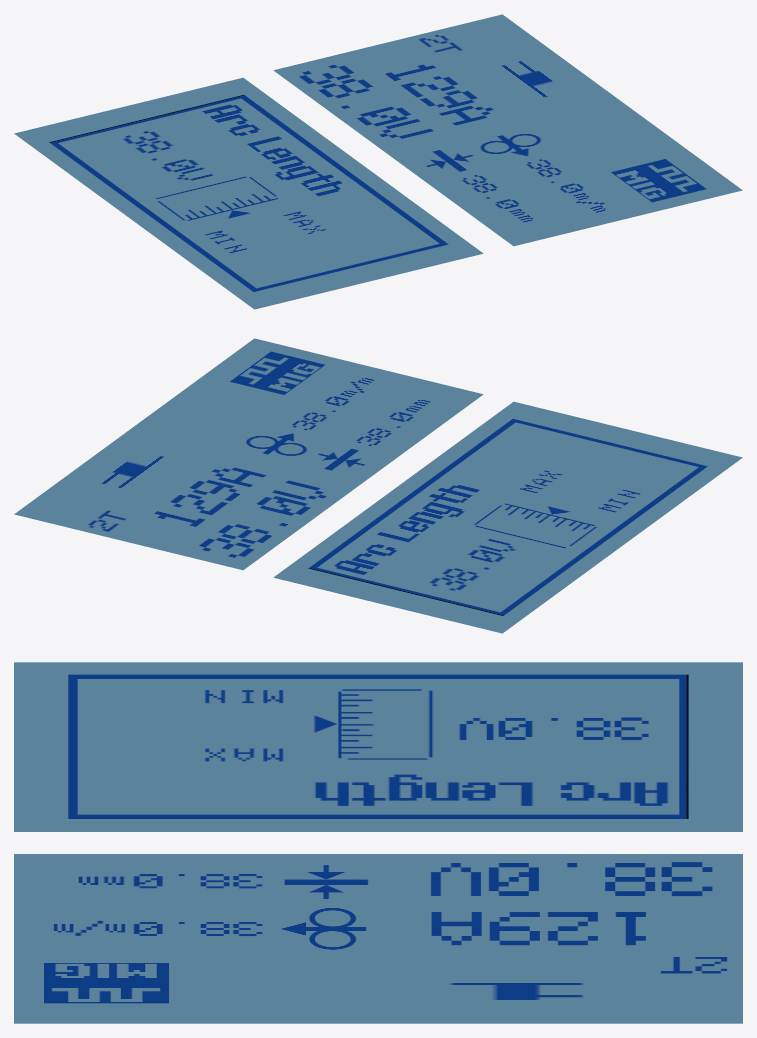
The model's file is sss1.glb.
3 renders of one model, top to bottom at view 1: azimuth 30°, elevation 25°; view 2: azimuth 150°, elevation 25°; view 3: azimuth 270°, elevation 25°, orthographic. The views are drawn at different scales.
Parts seen in each view (by area): view 1: tolshina_ekran., glav_ekran, arclength_tolshuna_ekran, rejum_gkav_ekran, tolshina_ekran_obvodka, simvol_lineika__tolshina_ekran, tiprezki_sim_mm_gkav_ekran, simvol_skorost__gkav_ekran, simvol_tolshina__gkav_ekran, min_tolshuna_ekran, max_tolshuna_ekran, skorost_sim_mm_gkav_ekran (+16 smaller); view 2: tolshina_ekran., glav_ekran, arclength_tolshuna_ekran, rejum_gkav_ekran, tolshina_ekran_obvodka, simvol_lineika__tolshina_ekran, tiprezki_sim_mm_gkav_ekran, simvol_skorost__gkav_ekran, simvol_tolshina__gkav_ekran, max_tolshuna_ekran, min_tolshuna_ekran, skorost_sim_mm_gkav_ekran (+16 smaller); view 3: tolshina_ekran., glav_ekran, arclength_tolshuna_ekran, rejum_gkav_ekran, tolshina_ekran_obvodka, simvol_lineika__tolshina_ekran, tiprezki_sim_mm_gkav_ekran, simvol_tolshina__gkav_ekran, simvol_skorost__gkav_ekran, max_tolshuna_ekran, min_tolshuna_ekran, skorost_sim_mm_gkav_ekran (+25 smaller).
Part boxes in pixels (bbox=[...]): tolshina_ekran.: bbox=[14, 77, 483, 309]; glav_ekran: bbox=[273, 14, 742, 246]; arclength_tolshuna_ekran: bbox=[188, 100, 359, 201]; rejum_gkav_ekran: bbox=[449, 23, 620, 133]; tolshina_ekran_obvodka: bbox=[49, 95, 448, 291]; simvol_lineika__tolshina_ekran: bbox=[149, 174, 283, 222]; tiprezki_sim_mm_gkav_ekran: bbox=[611, 159, 706, 202]; simvol_skorost__gkav_ekran: bbox=[467, 126, 557, 164]; simvol_tolshina__gkav_ekran: bbox=[404, 142, 494, 179]; min_tolshuna_ekran: bbox=[202, 222, 278, 254]; max_tolshuna_ekran: bbox=[281, 203, 357, 235]; skorost_sim_mm_gkav_ekran: bbox=[564, 184, 639, 215]; tolshina_ekran.: bbox=[273, 401, 742, 633]; glav_ekran: bbox=[14, 338, 483, 570]; arclength_tolshuna_ekran: bbox=[324, 478, 495, 579]; rejum_gkav_ekran: bbox=[45, 414, 216, 524]; tolshina_ekran_obvodka: bbox=[308, 419, 707, 615]; simvol_lineika__tolshina_ekran: bbox=[468, 502, 602, 550]; tiprezki_sim_mm_gkav_ekran: bbox=[230, 351, 325, 394]; simvol_skorost__gkav_ekran: bbox=[233, 425, 323, 462]; simvol_tolshina__gkav_ekran: bbox=[296, 441, 386, 478]; max_tolshuna_ekran: bbox=[488, 462, 564, 494]; min_tolshuna_ekran: bbox=[567, 481, 643, 513]; skorost_sim_mm_gkav_ekran: bbox=[308, 368, 383, 400]; tolshina_ekran.: bbox=[14, 662, 742, 831]; glav_ekran: bbox=[14, 854, 742, 1023]; arclength_tolshuna_ekran: bbox=[305, 773, 674, 810]; rejum_gkav_ekran: bbox=[303, 979, 729, 1003]; tolshina_ekran_obvodka: bbox=[68, 674, 688, 818]; simvol_lineika__tolshina_ekran: bbox=[337, 686, 434, 762]; tiprezki_sim_mm_gkav_ekran: bbox=[44, 963, 168, 1003]; simvol_tolshina__gkav_ekran: bbox=[278, 860, 374, 904]; simvol_skorost__gkav_ekran: bbox=[278, 907, 374, 950]; max_tolshuna_ekran: bbox=[201, 747, 287, 783]; min_tolshuna_ekran: bbox=[201, 689, 287, 725]; skorost_sim_mm_gkav_ekran: bbox=[47, 919, 131, 954].
Size of the model in its own units: 20.54 by 0.0207 by 17.52.
37 materials, 37 textured.
